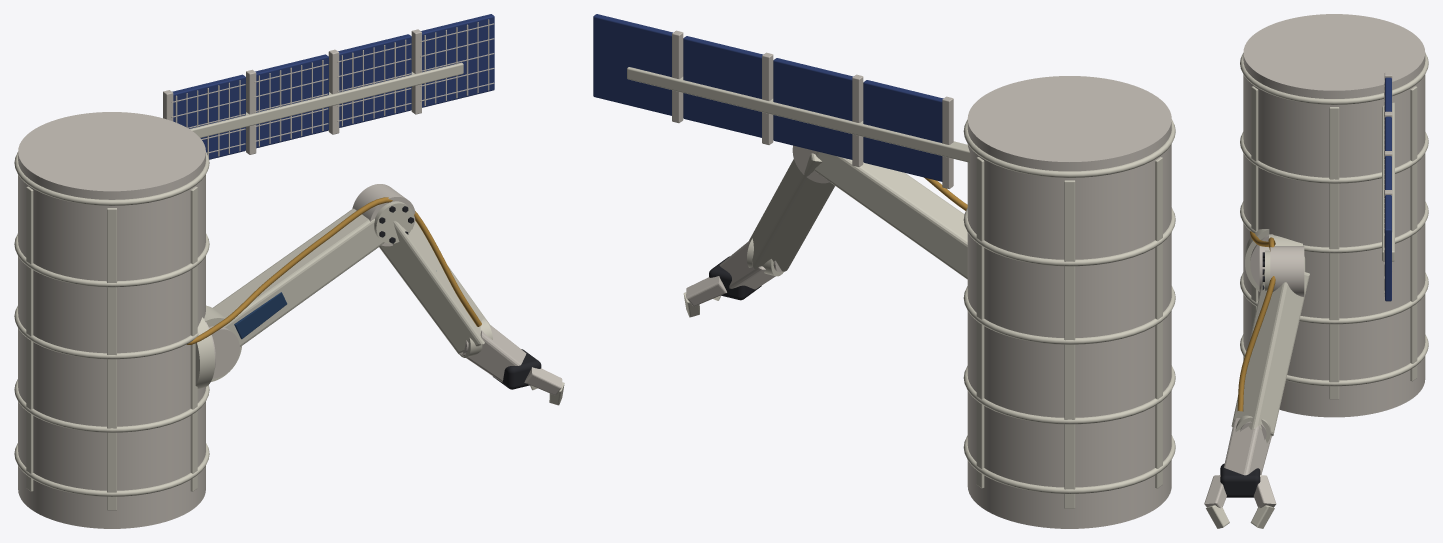
The model's file is robots-28.glb.
3 renders of one model, left to right at view 1: azimuth 30°, elevation 25°; view 2: azimuth 150°, elevation 25°; view 3: azimuth 270°, elevation 25°, orthographic. The views are drawn at different scales.
Visible parts, largest first — view 1: module, array, upper, collar, supports, forearm, cables, wrist, gripper, base, joint-covers, grapple (+1 smaller); view 2: module, array, collar, supports, upper, forearm, gripper, wrist; view 3: module, forearm, collar, gripper, wrist, array, elbow, cables, supports, grapple, base, joint-covers.
Boxes of the visible parts, x1=… form: module: x1=18, y1=112, x2=205, y2=528; array: x1=171, y1=14, x2=494, y2=159; upper: x1=213, y1=208, x2=384, y2=346; collar: x1=14, y1=152, x2=209, y2=496; supports: x1=163, y1=29, x2=463, y2=154; forearm: x1=379, y1=221, x2=490, y2=353; cables: x1=186, y1=197, x2=481, y2=344; wrist: x1=459, y1=318, x2=526, y2=382; gripper: x1=493, y1=349, x2=564, y2=405; base: x1=204, y1=305, x2=241, y2=381; joint-covers: x1=374, y1=201, x2=413, y2=243; grapple: x1=195, y1=317, x2=215, y2=388; module: x1=967, y1=76, x2=1171, y2=528; array: x1=593, y1=14, x2=943, y2=181; collar: x1=963, y1=119, x2=1175, y2=493; supports: x1=627, y1=30, x2=969, y2=188; upper: x1=814, y1=151, x2=967, y2=279; forearm: x1=749, y1=153, x2=834, y2=271; gripper: x1=683, y1=256, x2=761, y2=317; wrist: x1=719, y1=238, x2=783, y2=289; module: x1=1243, y1=14, x2=1425, y2=417; forearm: x1=1231, y1=269, x2=1309, y2=436; collar: x1=1240, y1=53, x2=1428, y2=386; gripper: x1=1204, y1=463, x2=1276, y2=528; wrist: x1=1224, y1=415, x2=1271, y2=475; array: x1=1384, y1=77, x2=1391, y2=301; elbow: x1=1270, y1=246, x2=1304, y2=296; cables: x1=1237, y1=231, x2=1275, y2=411; supports: x1=1382, y1=72, x2=1394, y2=270; grapple: x1=1245, y1=229, x2=1273, y2=291; base: x1=1259, y1=234, x2=1302, y2=292; joint-covers: x1=1262, y1=250, x2=1270, y2=290.
Bounding box in the file's own units: 3.87 × 2.67 × 1.58.
